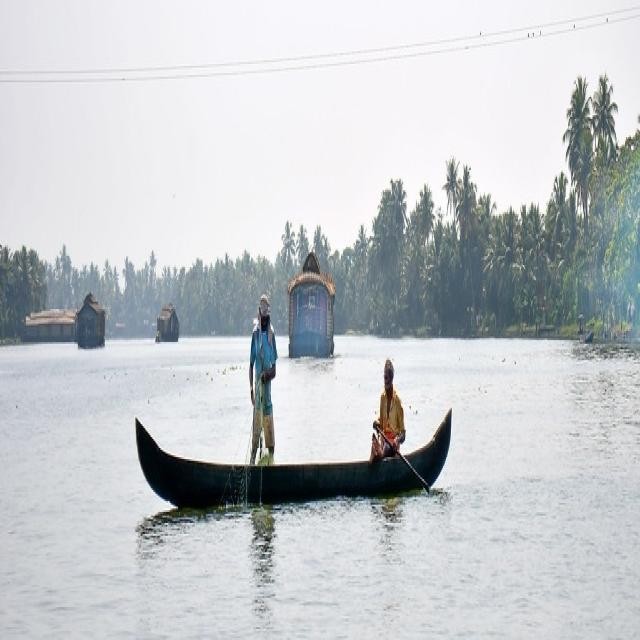boat: (125, 412, 472, 506), (282, 253, 340, 365), (70, 293, 118, 362), (148, 305, 182, 339)
